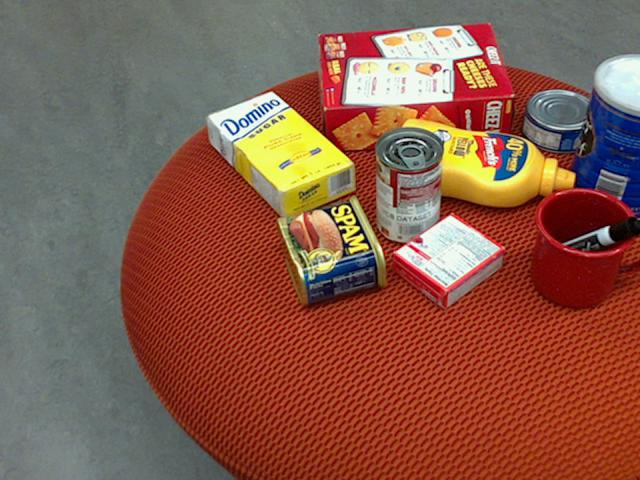cracker_box: (318, 22, 513, 150)
gelatin_box: (390, 214, 505, 310)
large_marker: (535, 215, 639, 268)
master_chef_can: (565, 54, 639, 221)
mug: (530, 187, 639, 308)
mustard_bottle: (387, 118, 573, 207)
potted_meat_can: (275, 194, 387, 305)
sugar_box: (205, 89, 355, 221)
tomato_soup_can: (374, 124, 443, 243)
tuna_fish_can: (519, 88, 597, 152)
